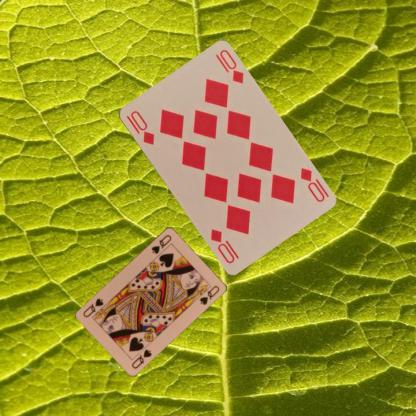10d: (297, 165, 330, 203), (127, 108, 156, 146)
Qs: (129, 346, 153, 370), (149, 232, 173, 254)
